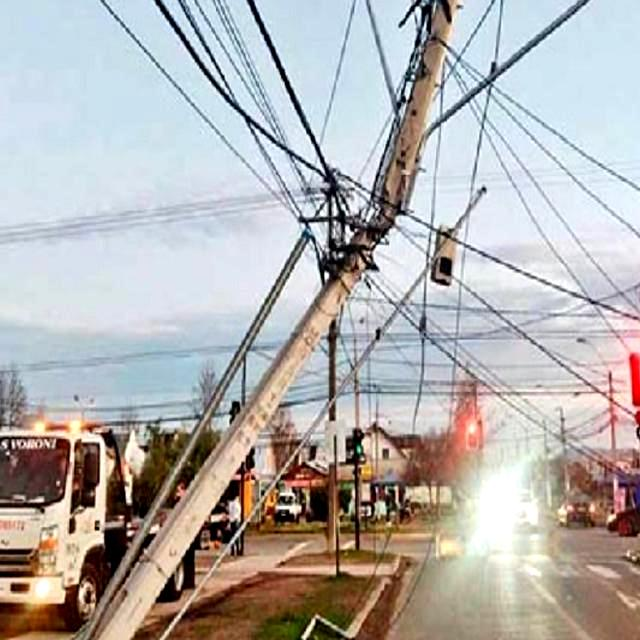Broken Pole: (81, 5, 465, 640), (154, 178, 489, 640)
